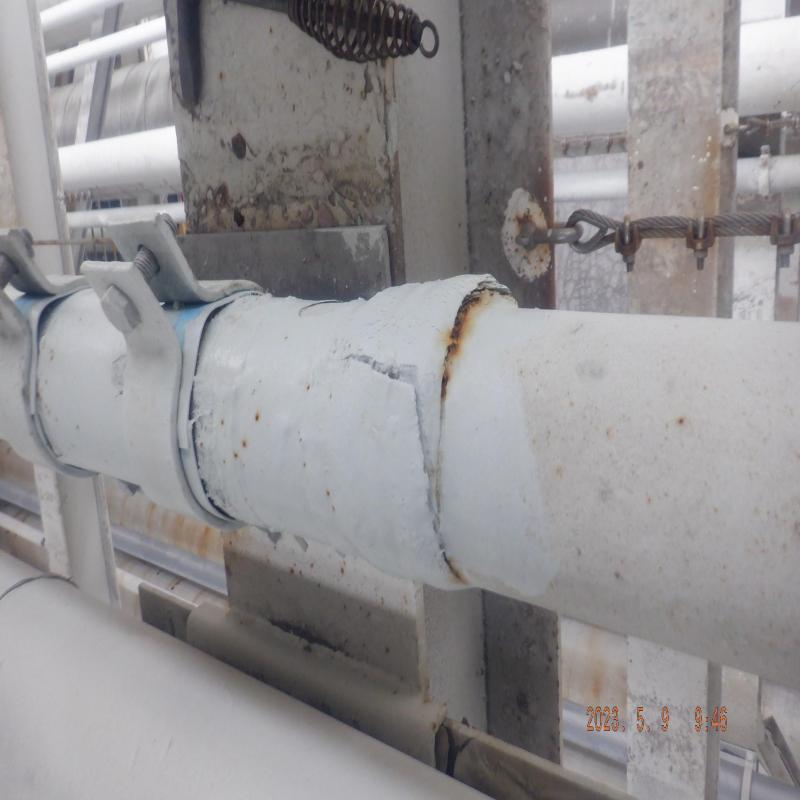corrosion: (453, 292, 464, 370)
